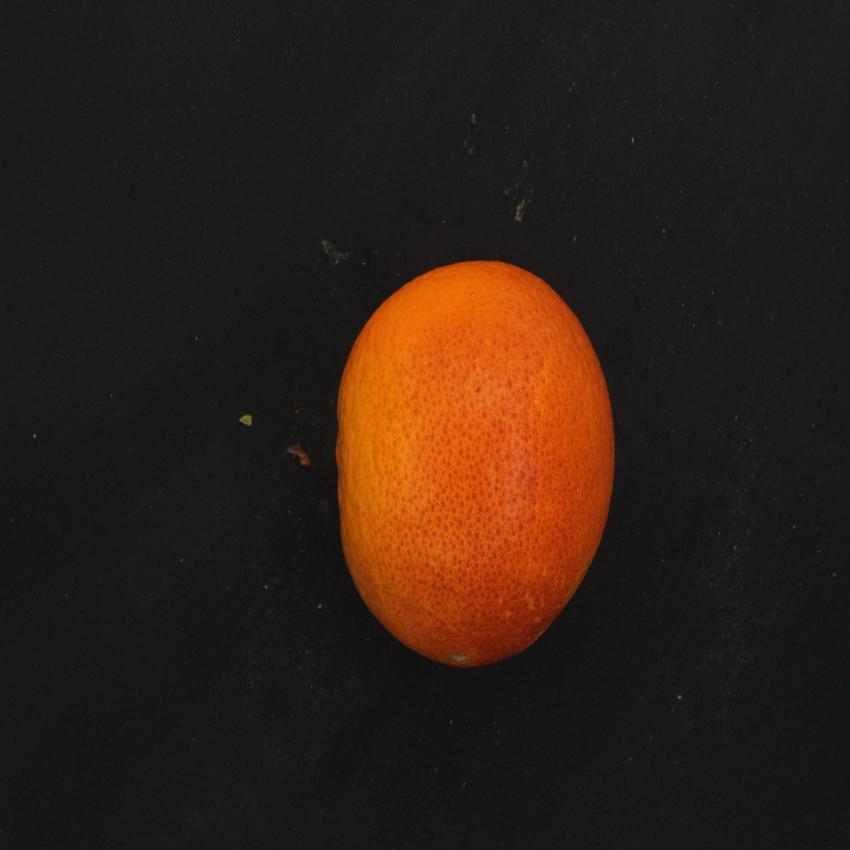Buen estado: (326, 248, 628, 684)
